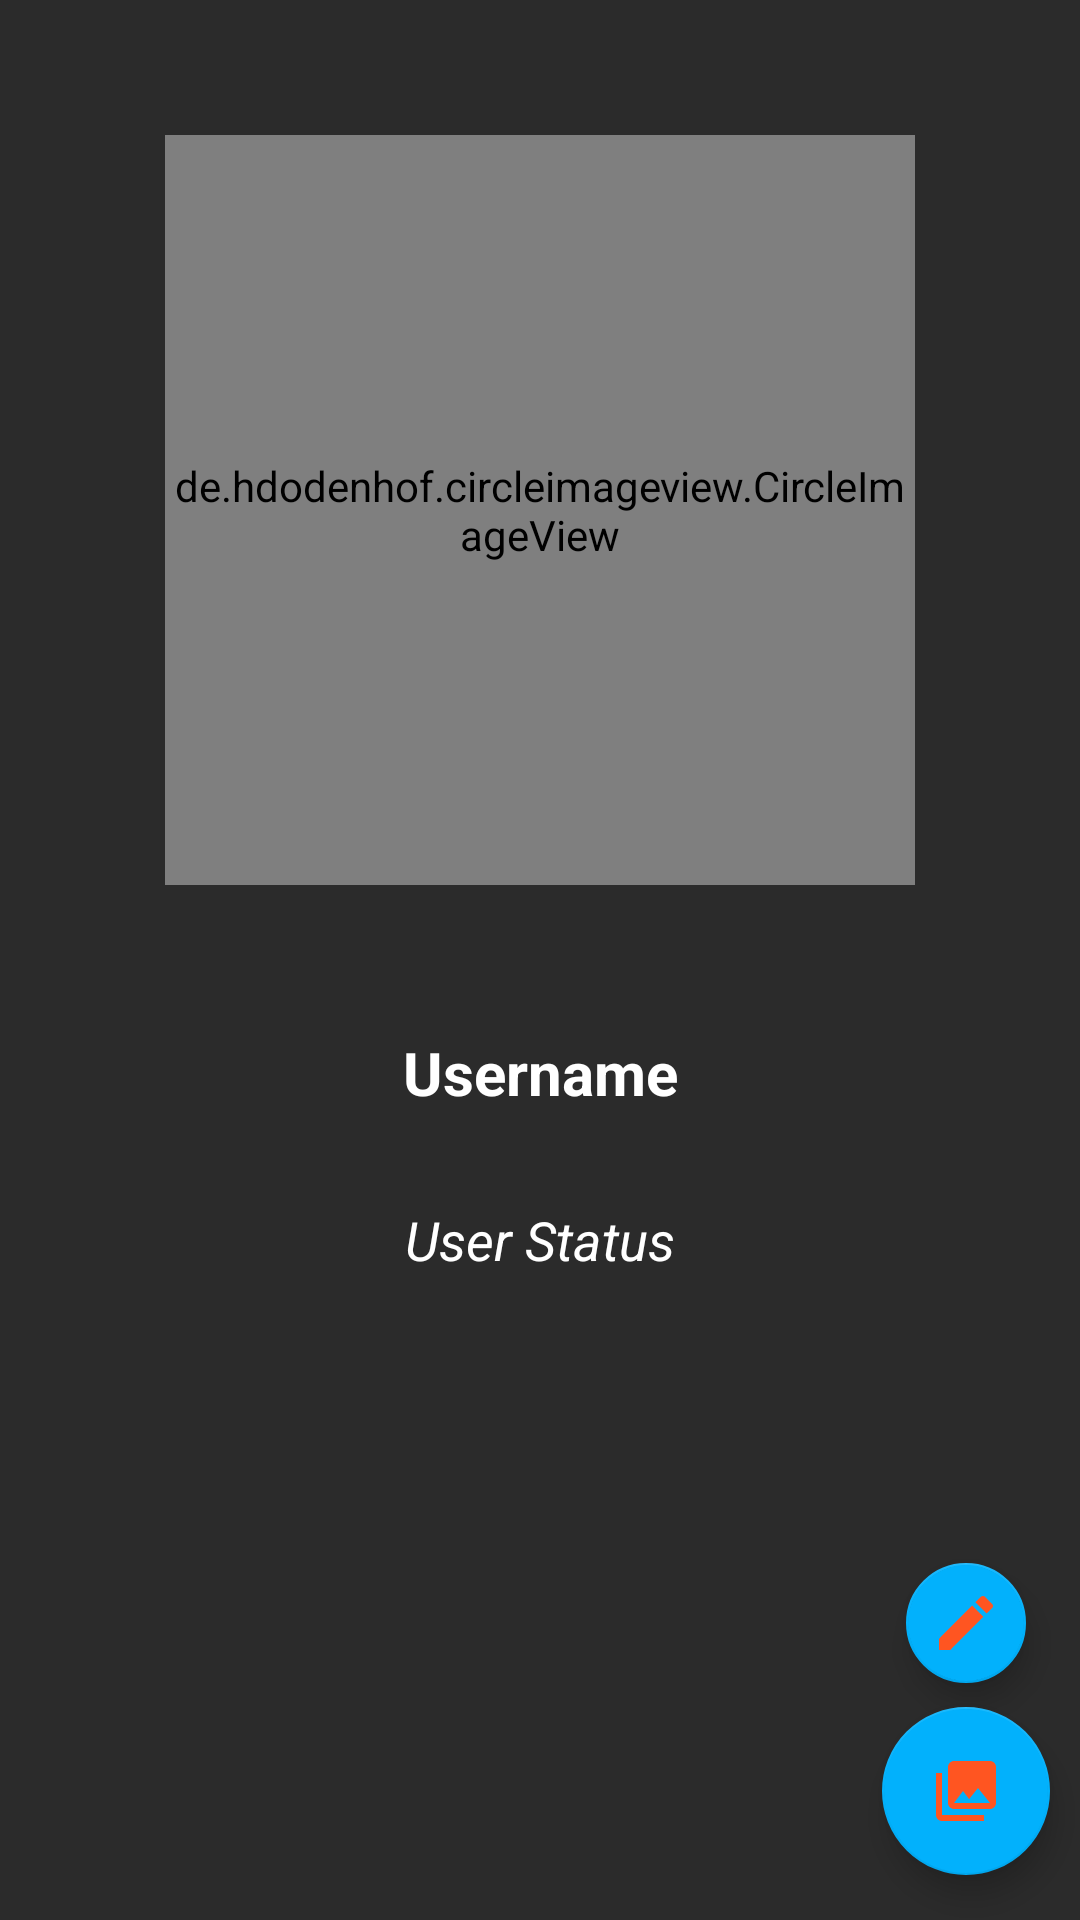

Where icons sit on this 1080w x 1920h app screen, as bbox=(x1, y1, x2, y2):
photo library: bbox=(882, 1707, 1050, 1875)
